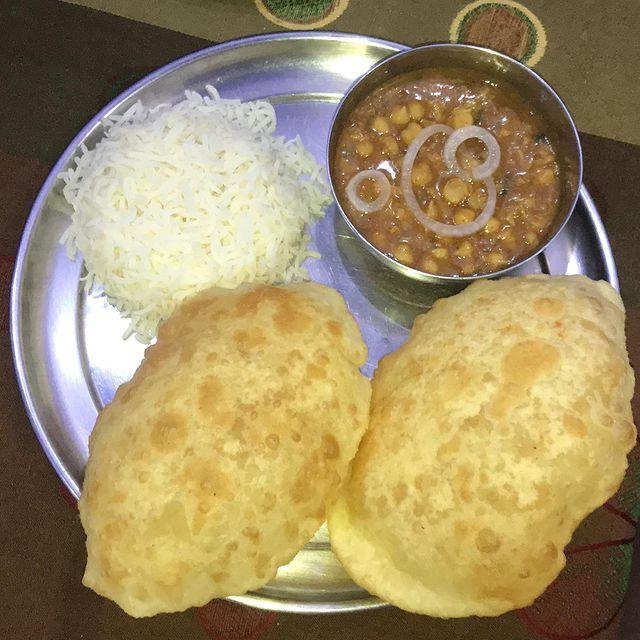Chole: (347, 106, 516, 264)
